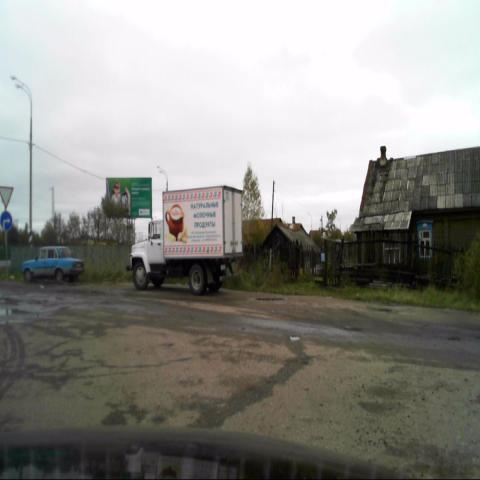4_1_2: (0, 211, 12, 231)
